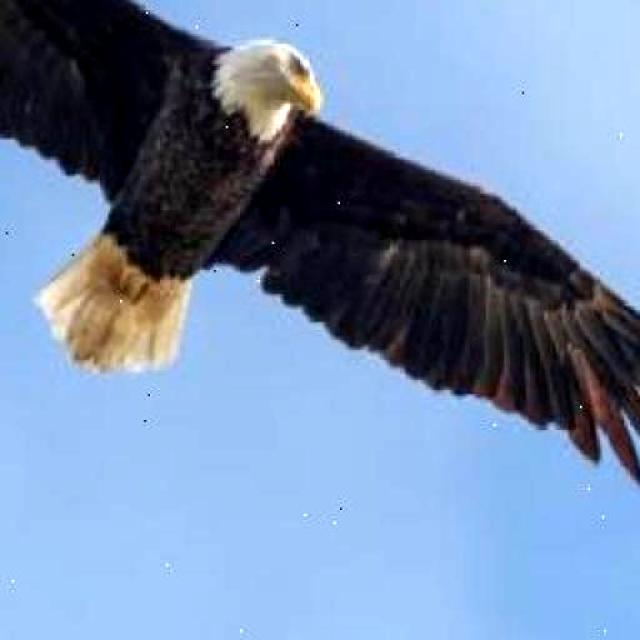airplane: (0, 0, 640, 544)
